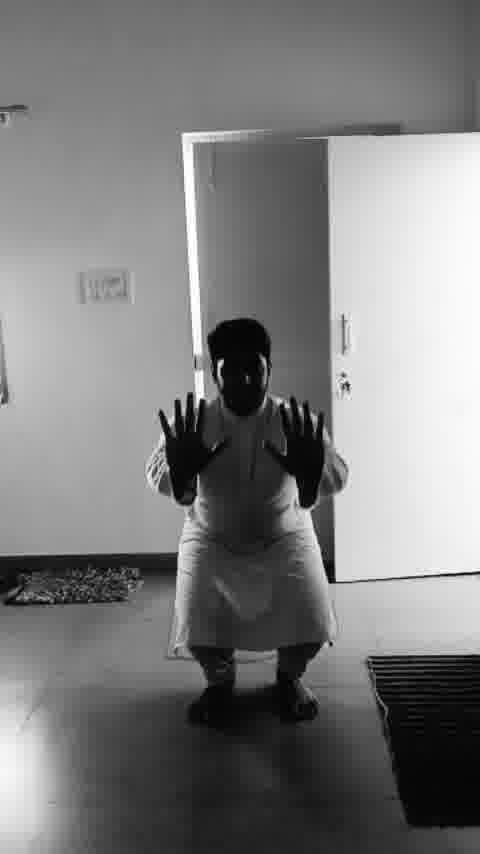duck: (144, 314, 361, 737)
